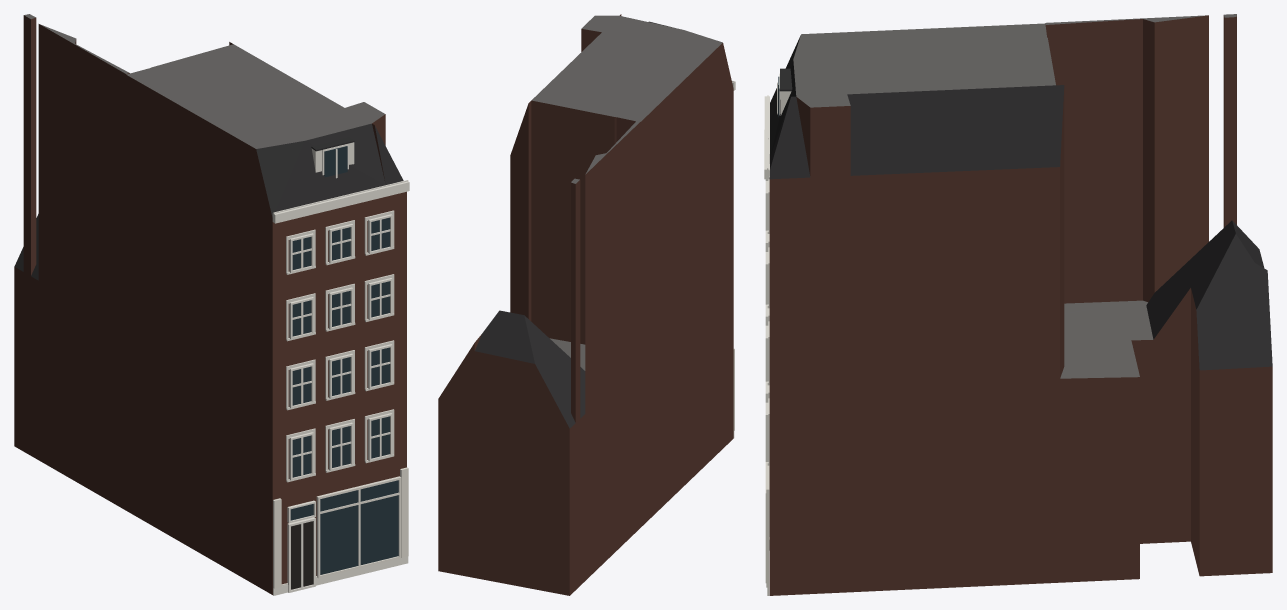
The picture shows the model from 3 angles, left to right: view 1: azimuth 30°, elevation 25°; view 2: azimuth 150°, elevation 25°; view 3: azimuth 270°, elevation 25°; orthographic projection. The views are drawn at different scales.
Parts seen in each view (by area): view 1: spec-0363100012178302; view 2: spec-0363100012178302; view 3: spec-0363100012178302.
Part boxes in pixels (x1,y1,x2,y2): spec-0363100012178302: (14,14,409,595); spec-0363100012178302: (438,14,735,595); spec-0363100012178302: (764,14,1272,595).
Bounding box in the file's own units: 7.27 × 17.29 × 16.35.
